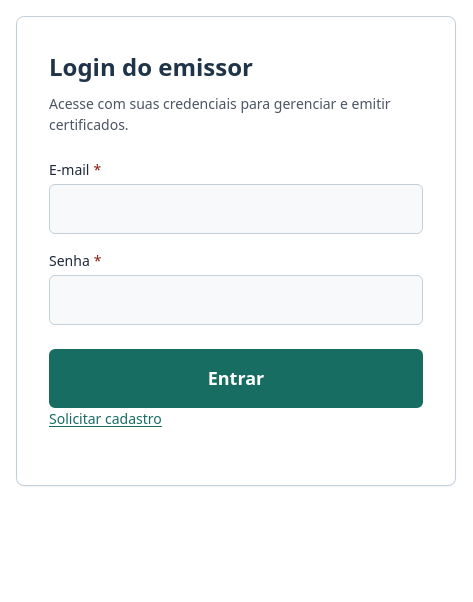
Test: LoginPage (CT1/CT3) › exibe mensagem genérica amigável em caso de erro 500 do servidor
The width and height of the screenshot is (473, 602).
Type "emissor@timbro.test" into the field labelled "E-mail*".
click(236, 209); type("emissor@timbro.test")  # box [49,184,423,234]
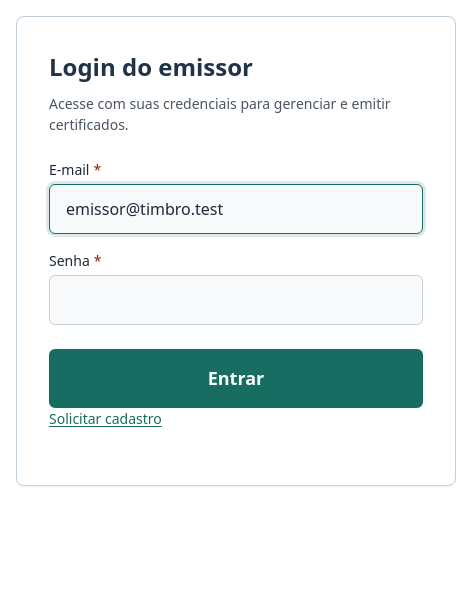
Type "Senha@123" into the password field labelled "Senha*".
click(236, 300); type("Senha@123")  # box [49,275,423,325]
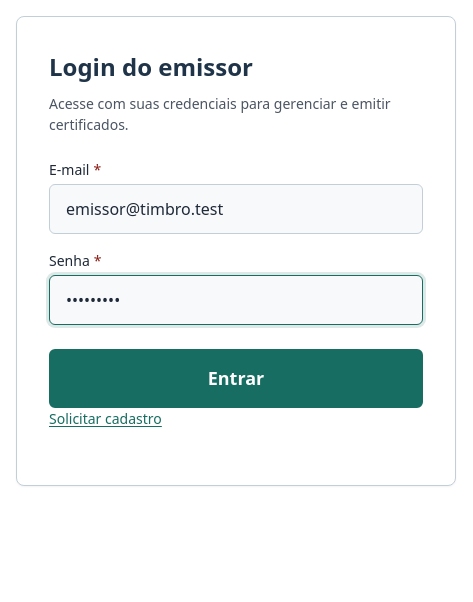
Click the button "Entrar".
click(236, 378)  # box [49,349,423,408]
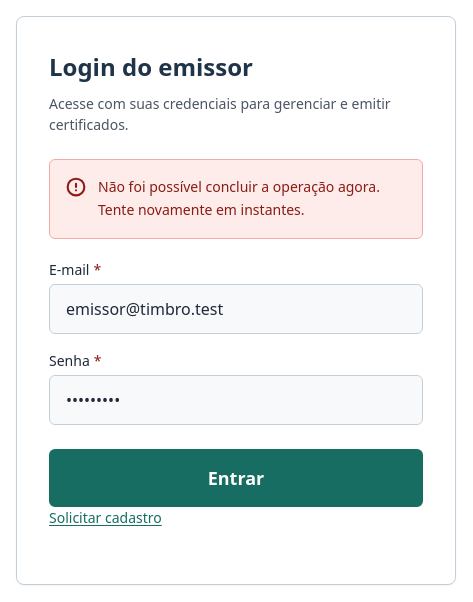
Check: the message does not show "banco de dados", box [49,159,423,238]
Check: the message reads "Não foi possível concluir a operação agora. Tente novamente em instantes.", box [98,177,380,219]
